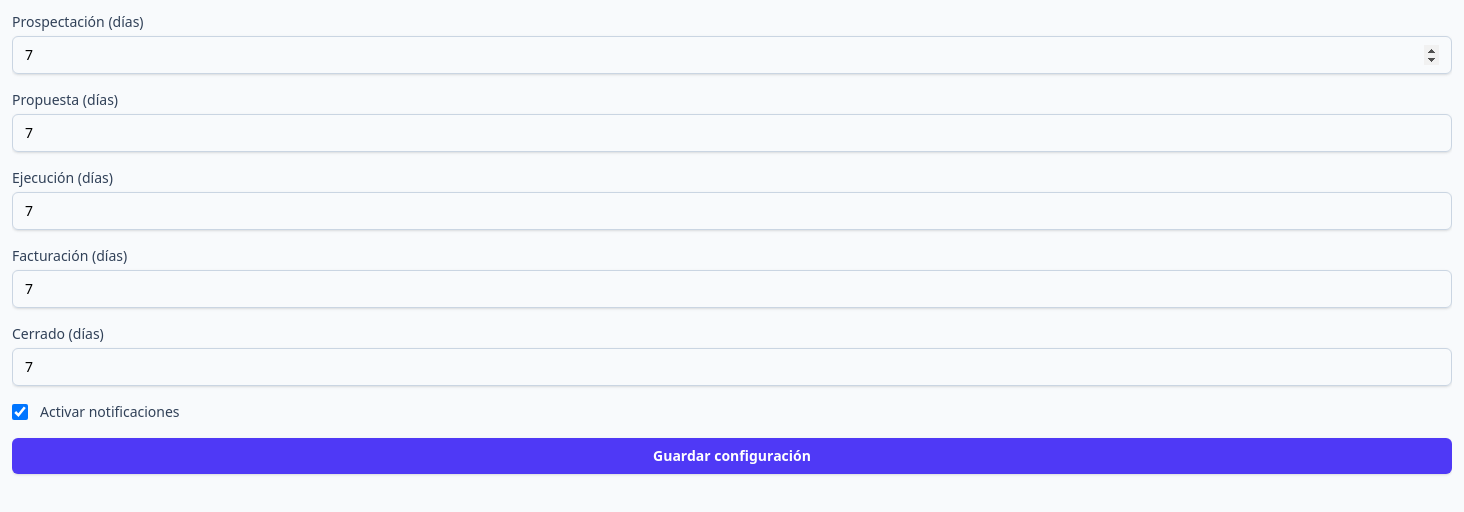
Test: SettingsForm (accesible, validación visual) › rechaza valores no enteros en los umbrales
The width and height of the screenshot is (1464, 512).
Replace the text in the number field labelled "Propuesta (días)" with "7.5" at x=732, y=133, box [12,114,1452,152]
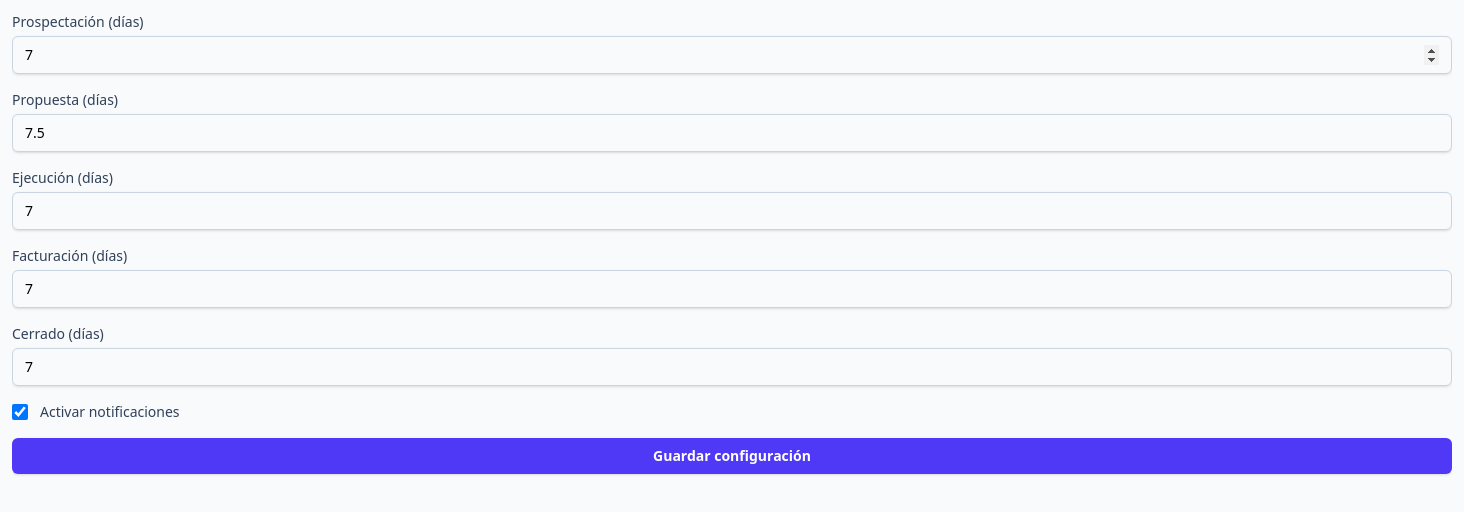
Click the button "Guardar configuración" at x=732, y=456, box [12,438,1452,474]
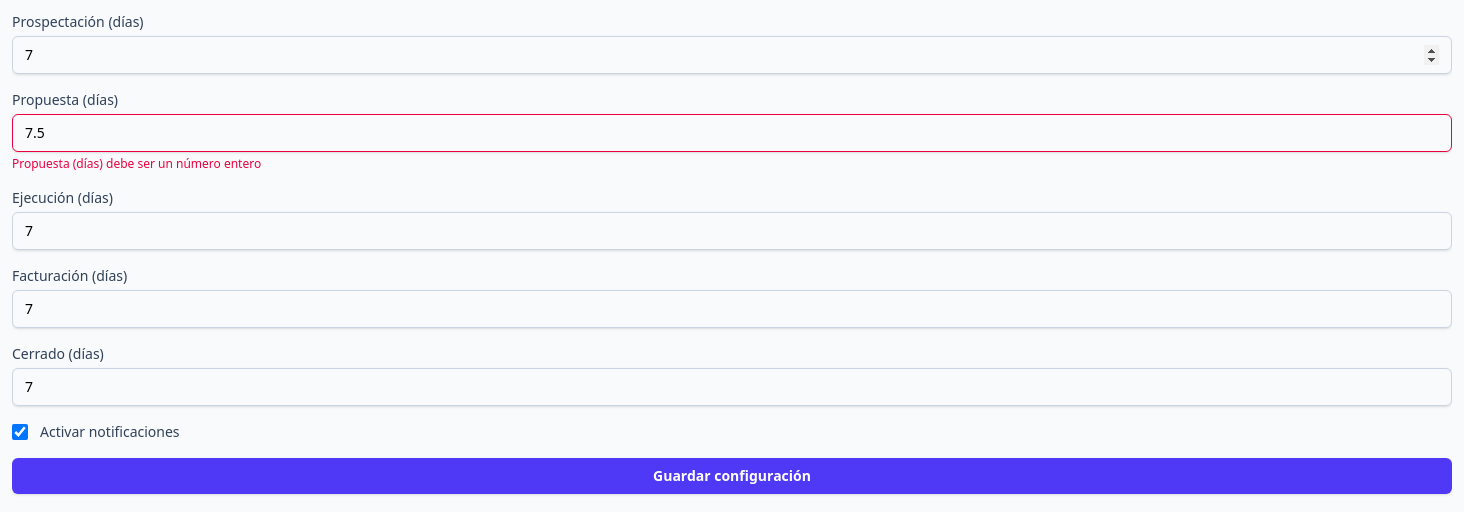
Result: the text "Propuesta (días) debe ser un número entero" is shown at [12,155,261,172]
